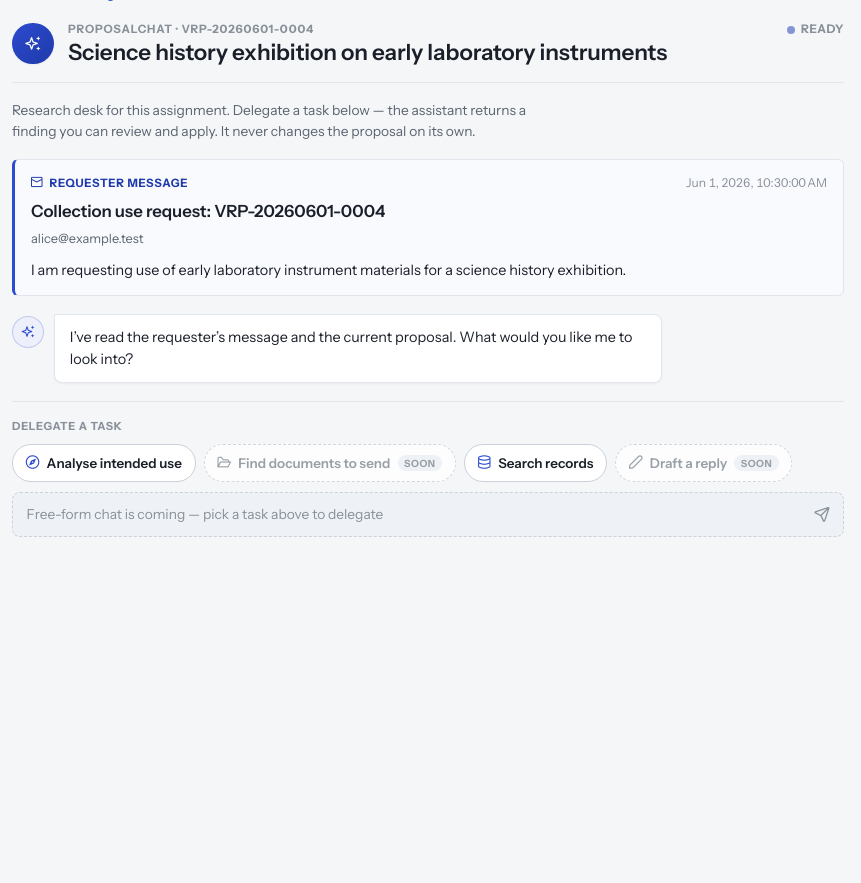
Test case: ProposalChatPanelComponent › simulates three Lynx pardinus records and submits the selected snapshots
Step 1. Click the button "Search records" → {"x": 535, "y": 463}, box x1=464 y1=444 x2=607 y2=482
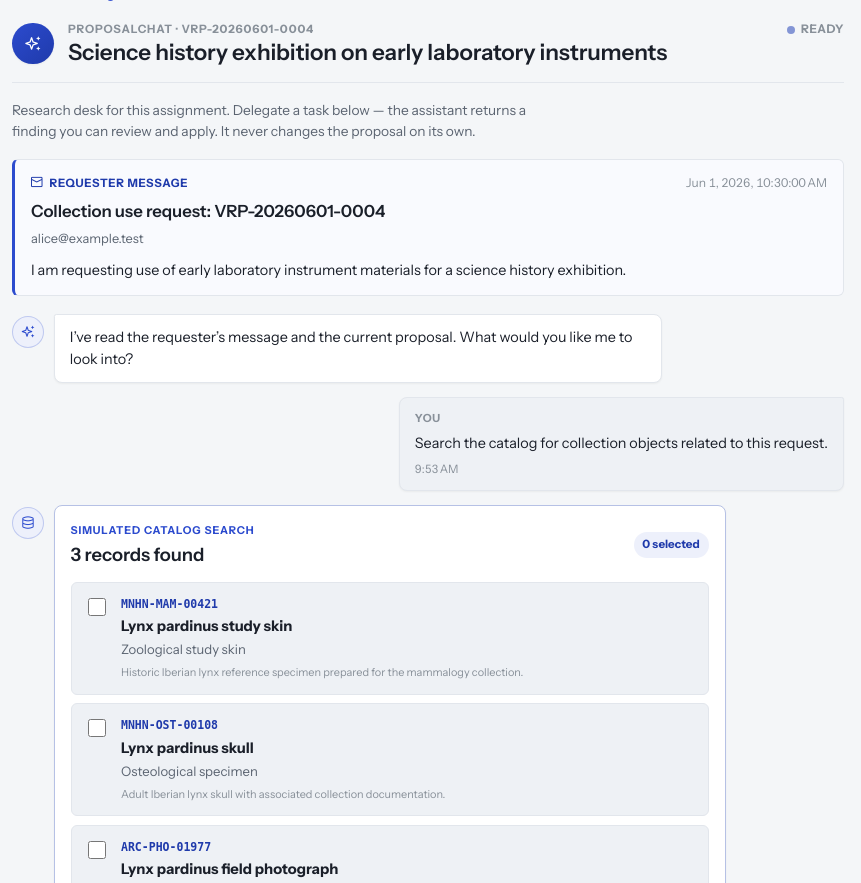
Step 2. Click the 1st checkbox → {"x": 97, "y": 607}, box x1=88 y1=598 x2=106 y2=616
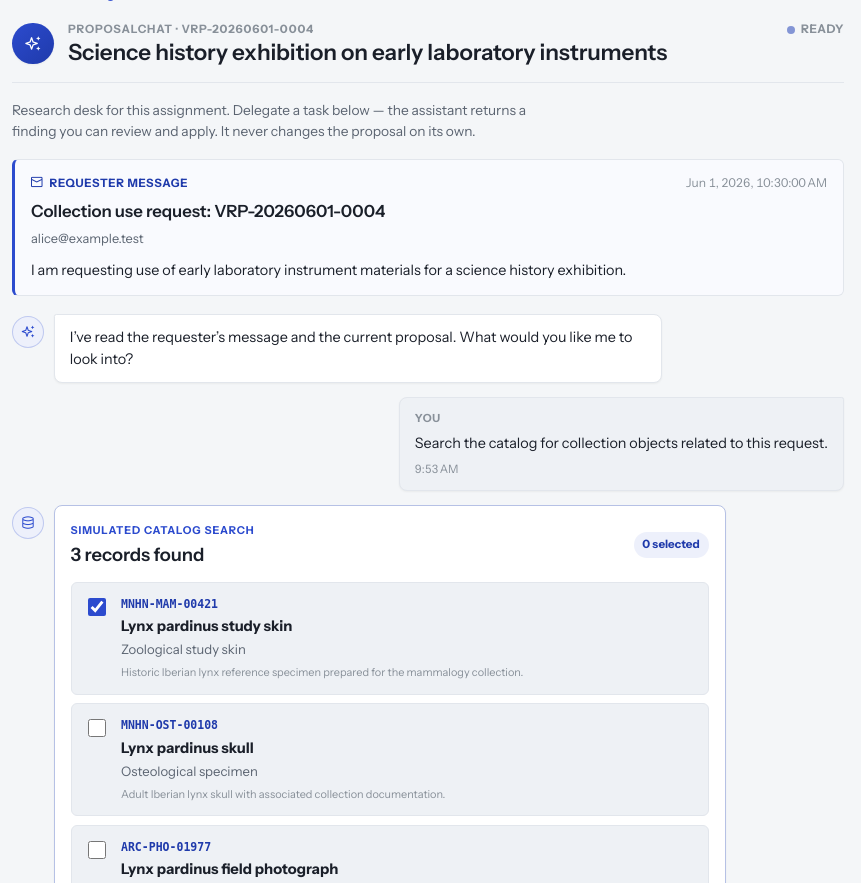
Step 3. Click the 3rd checkbox → {"x": 97, "y": 850}, box x1=88 y1=841 x2=106 y2=859
(page scrolled)
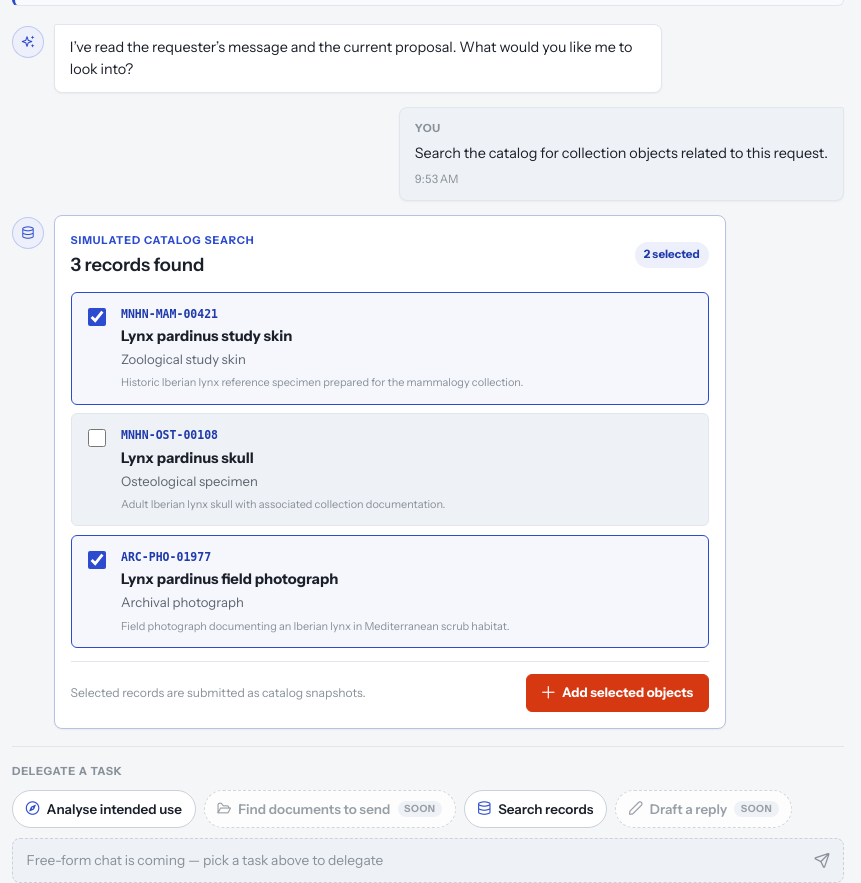
Now the button "Add selected objects" is enabled
Step 4. Click the button "Add selected objects" → {"x": 617, "y": 693}, box x1=526 y1=674 x2=709 y2=712
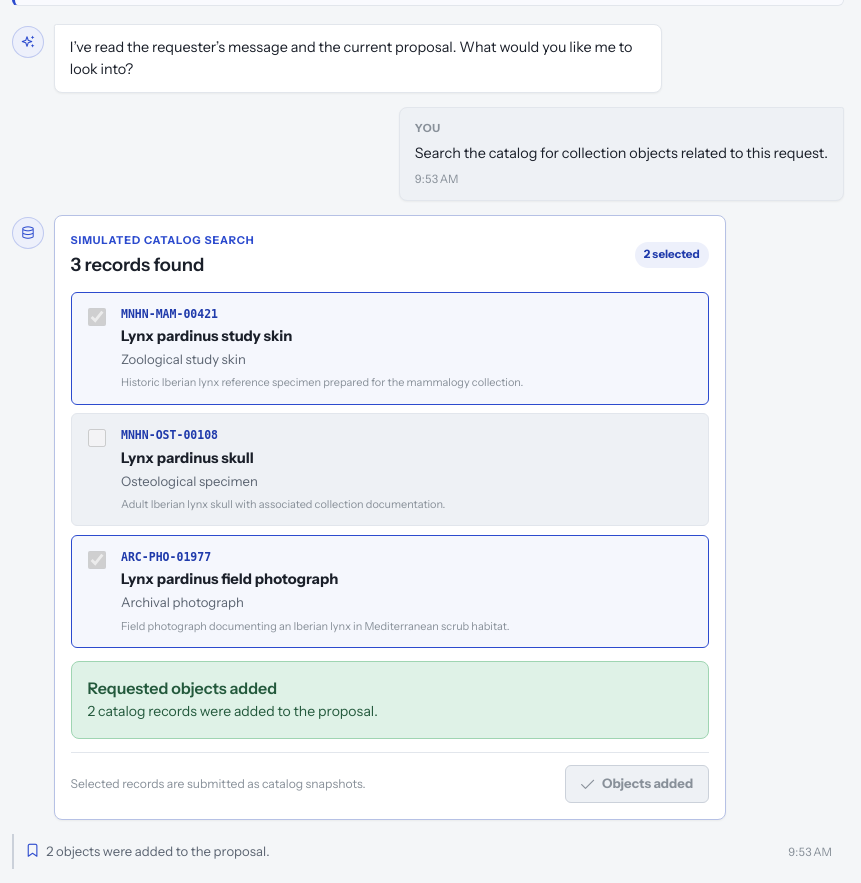
Now the text "Requested objects added" is shown, box x1=88 y1=678 x2=277 y2=698
Now the text "2 catalog records were added" is shown, box x1=88 y1=702 x2=378 y2=720
